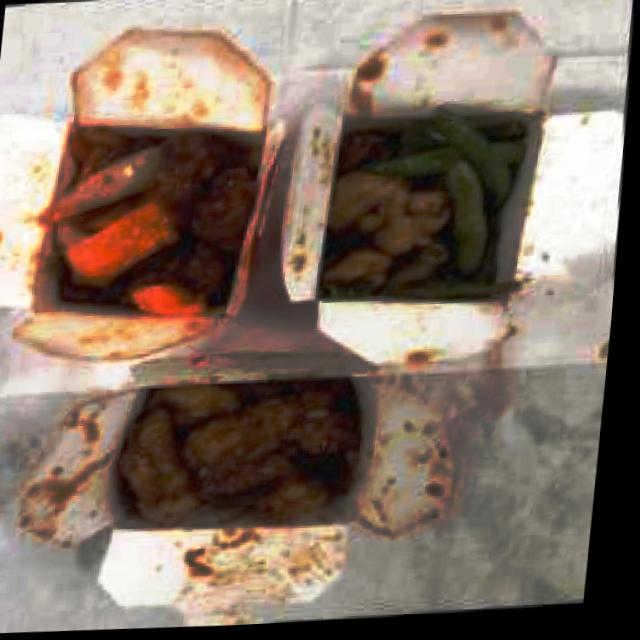Beijing Beef: (49, 113, 253, 319)
Kung Pao Chicken: (107, 370, 365, 535)
String Bean Chicken Breast: (322, 114, 501, 300)
